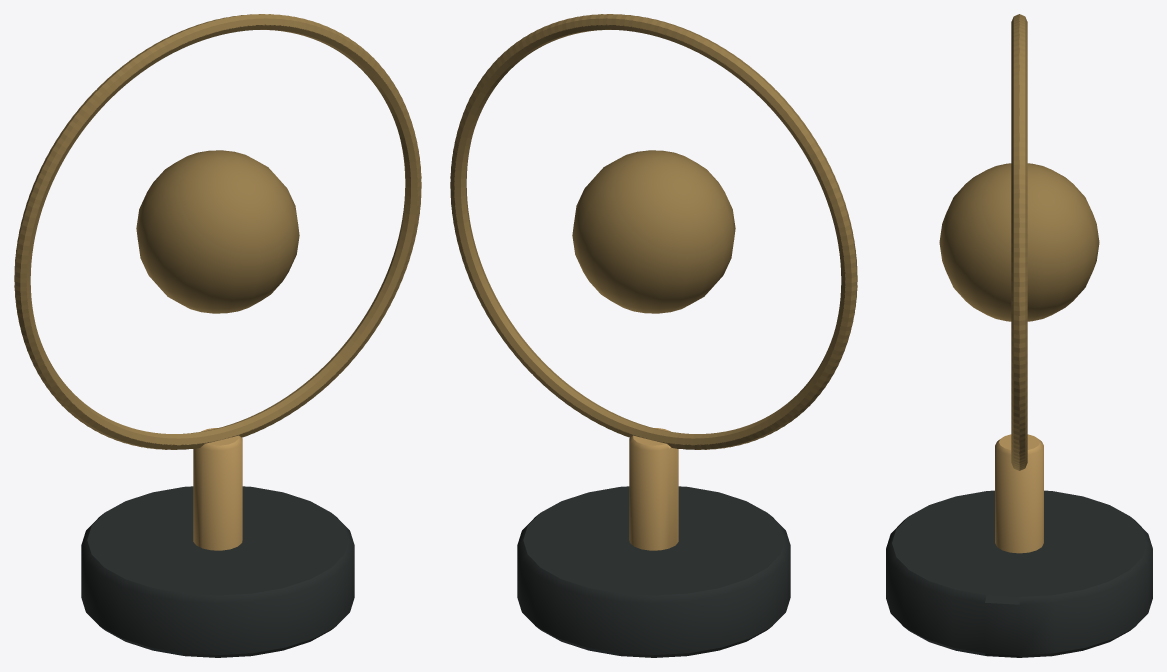
The model's file is armillary.glb.
The picture shows the model from 3 angles, left to right: view 1: azimuth 30°, elevation 25°; view 2: azimuth 150°, elevation 25°; view 3: azimuth 270°, elevation 25°; orthographic projection. The views are drawn at different scales.
Parts seen in each view (by area): view 1: part::armillary/armillary-foot-001, part::armillary/armillary-earth-001, part::armillary/antique-brass-armillary-ring-002, part::armillary/antique-brass-armillary-ring-003, part::armillary/antique-brass-armillary-ring-001, part::armillary/armillary-pedestal-001; view 2: part::armillary/armillary-foot-001, part::armillary/armillary-earth-001, part::armillary/antique-brass-armillary-ring-002, part::armillary/antique-brass-armillary-ring-003, part::armillary/antique-brass-armillary-ring-001, part::armillary/armillary-pedestal-001; view 3: part::armillary/armillary-foot-001, part::armillary/armillary-earth-001, part::armillary/armillary-pedestal-001, part::armillary/antique-brass-armillary-ring-002, part::armillary/antique-brass-armillary-ring-003, part::armillary/antique-brass-armillary-ring-001.
Part boxes in pixels (left/top/right/bottom): part::armillary/armillary-foot-001: left=81, top=486, right=354, bottom=657; part::armillary/armillary-earth-001: left=136, top=150, right=299, bottom=313; part::armillary/antique-brass-armillary-ring-002: left=14, top=14, right=421, bottom=449; part::armillary/antique-brass-armillary-ring-003: left=14, top=14, right=421, bottom=449; part::armillary/antique-brass-armillary-ring-001: left=14, top=14, right=421, bottom=449; part::armillary/armillary-pedestal-001: left=193, top=428, right=242, bottom=550; part::armillary/armillary-foot-001: left=517, top=486, right=790, bottom=657; part::armillary/armillary-earth-001: left=572, top=150, right=735, bottom=313; part::armillary/antique-brass-armillary-ring-002: left=450, top=14, right=857, bottom=449; part::armillary/antique-brass-armillary-ring-003: left=450, top=14, right=857, bottom=449; part::armillary/antique-brass-armillary-ring-001: left=450, top=14, right=857, bottom=449; part::armillary/armillary-pedestal-001: left=629, top=428, right=678, bottom=550; part::armillary/armillary-foot-001: left=886, top=490, right=1152, bottom=657; part::armillary/armillary-earth-001: left=939, top=163, right=1099, bottom=321; part::armillary/armillary-pedestal-001: left=995, top=434, right=1043, bottom=553; part::armillary/antique-brass-armillary-ring-002: left=1011, top=15, right=1027, bottom=470; part::armillary/antique-brass-armillary-ring-003: left=1011, top=14, right=1027, bottom=470; part::armillary/antique-brass-armillary-ring-001: left=1011, top=14, right=1027, bottom=469.
Bounding box in the file's own units: 0.394 × 0.541 × 0.23.
